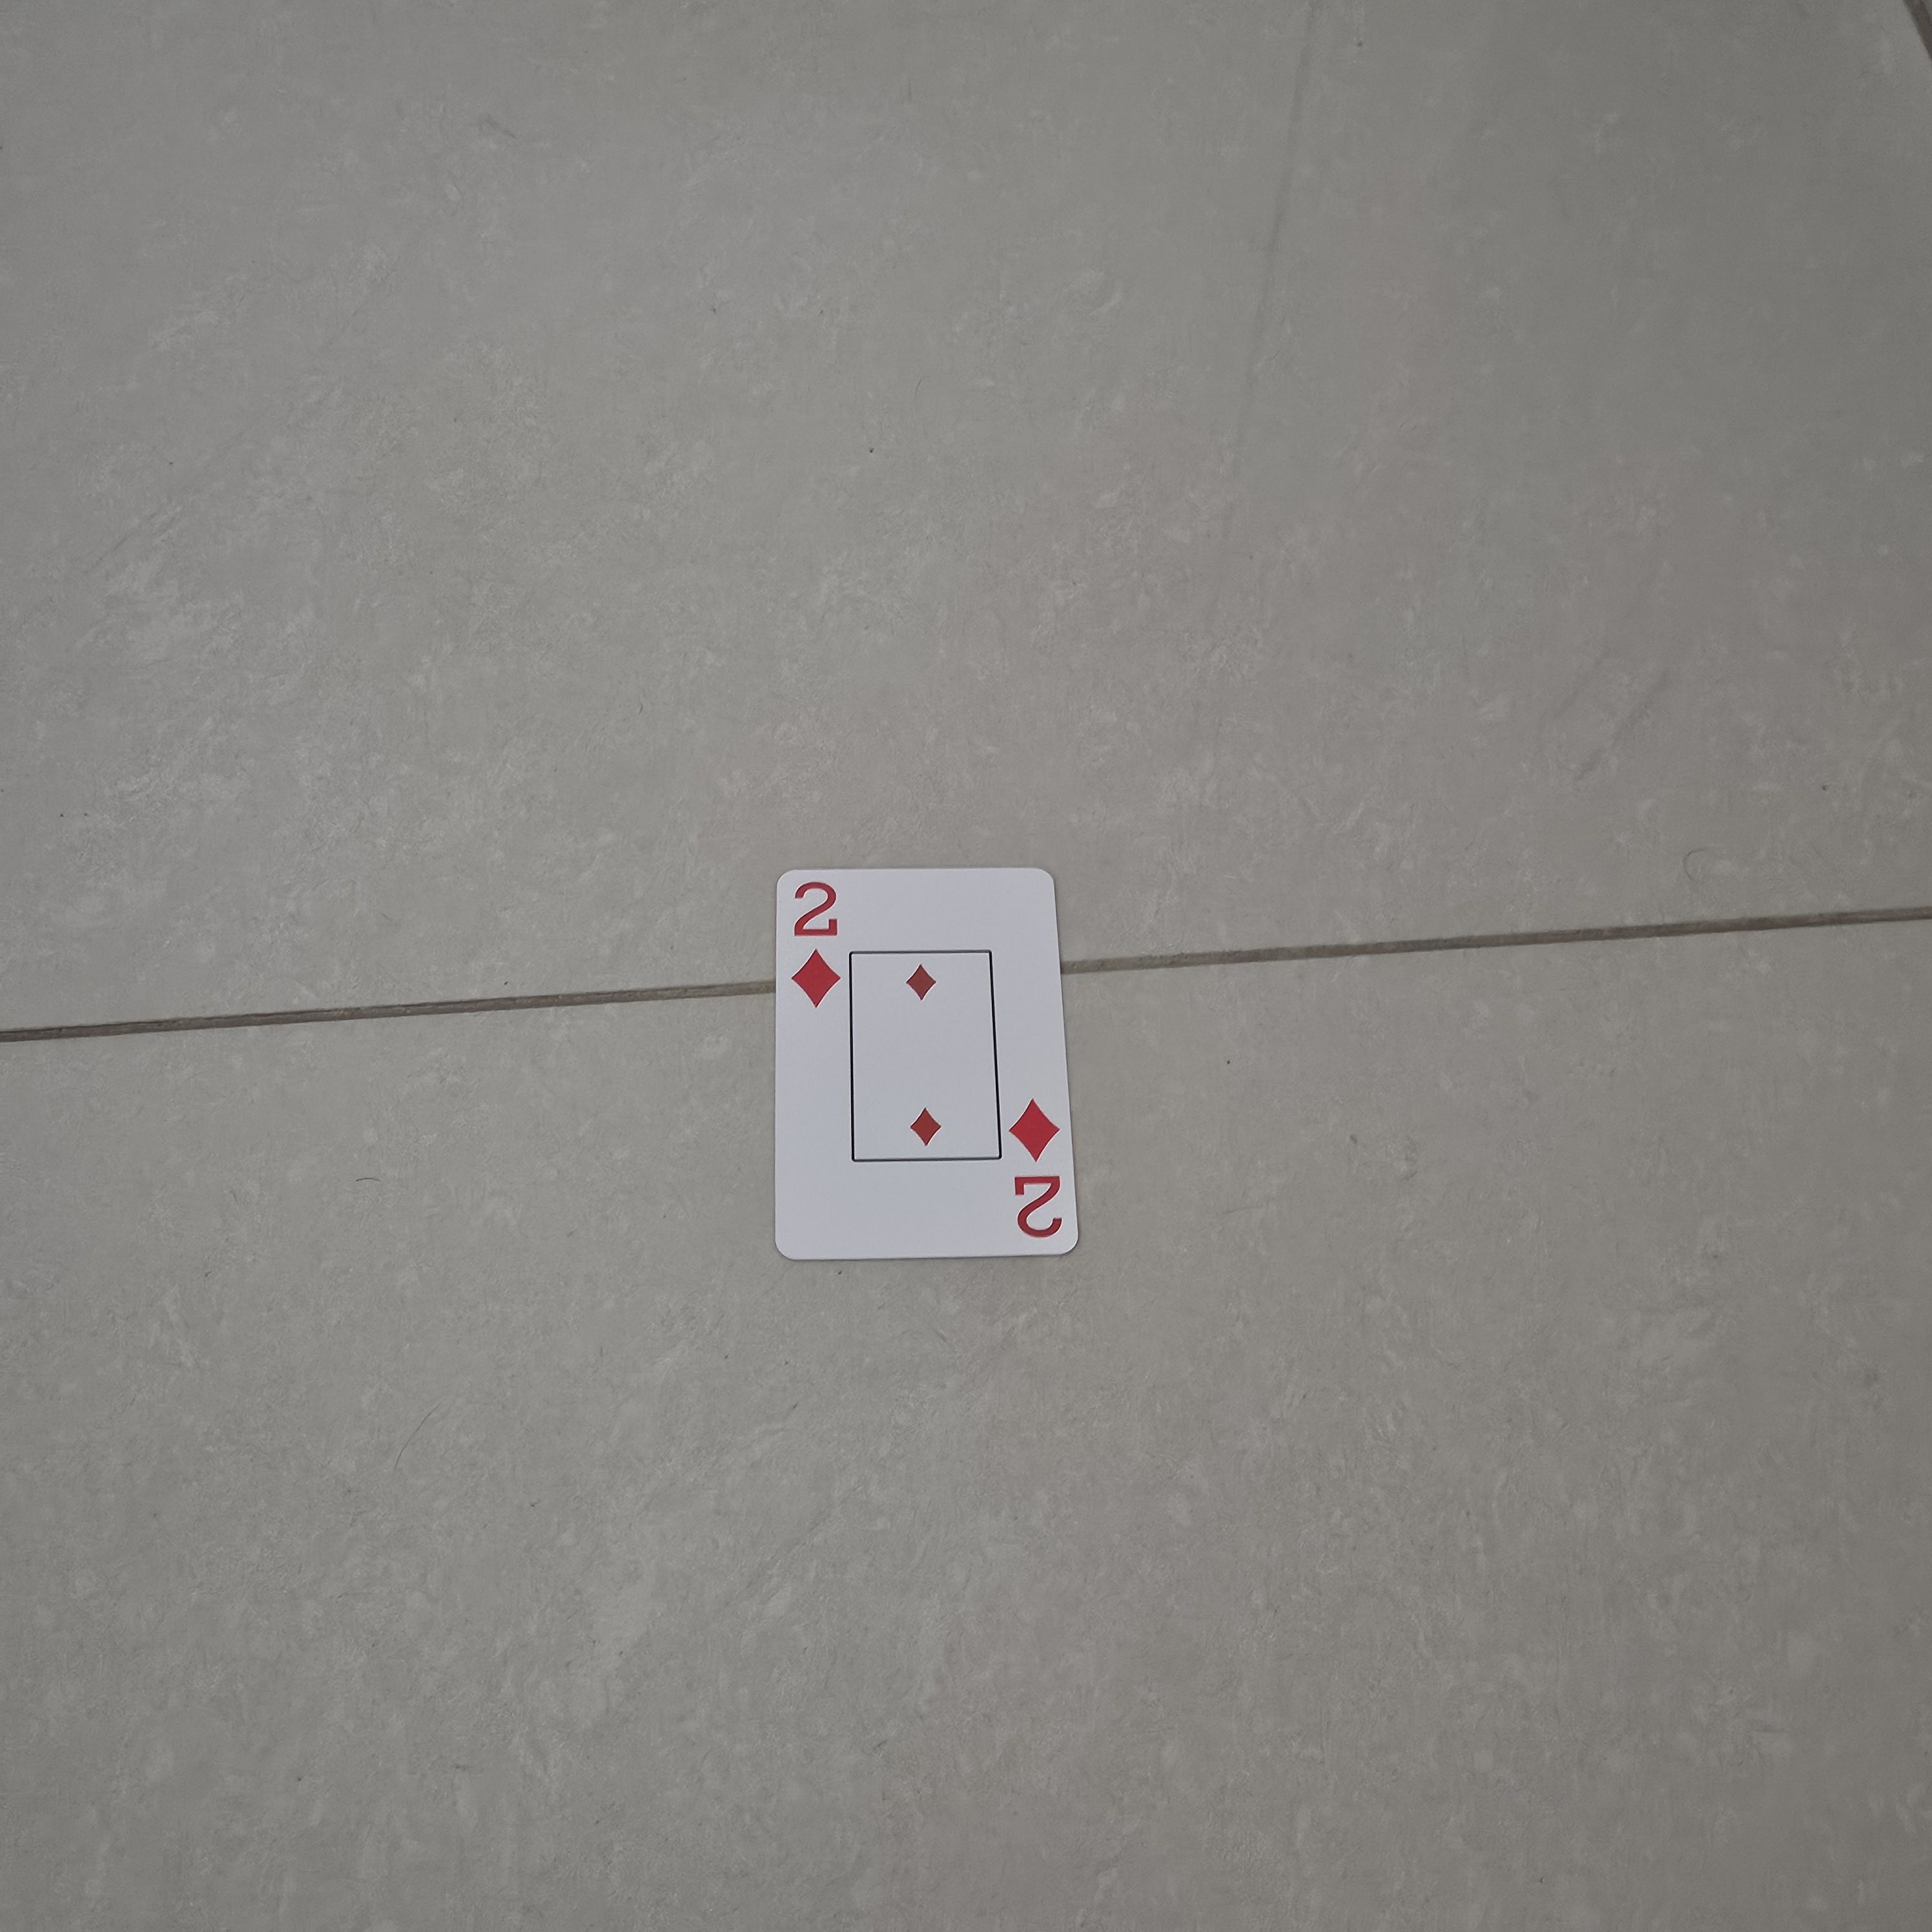2O: (771, 869, 853, 1014), (998, 1092, 1072, 1247)
